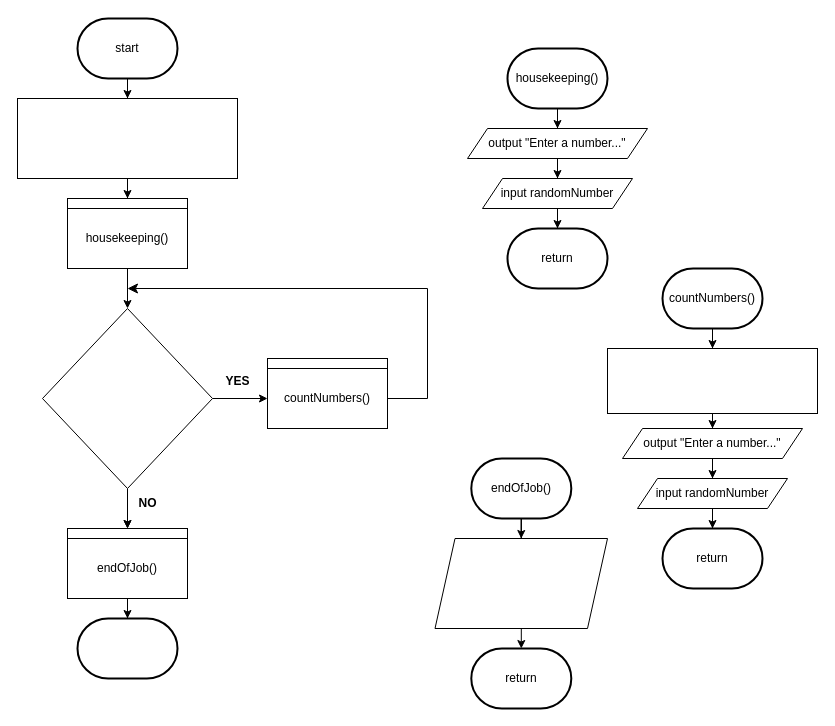
Some shapes in this 835 by 726 pixel diagram are drawn without their labels. Here are the shapes that lost their labels. From the top down, the box of each, then its label:
(16, 98, 238, 178): Declarations num randomNumber num myNumbers[20] num myNumbers[randomNumber] = 0
(42, 308, 212, 488): myNumber[randomNumber] <> 0? AND myNumbers[i] <= 19
(606, 348, 818, 414): myNumbers[randomNumber] = myNumbers[randomNumber] + 1
(434, 538, 608, 628): output myNumbers[19], myNumbers[18], myNumbers[...], myNumbers[1], myNumbers[0]
(76, 617, 178, 679): stop
